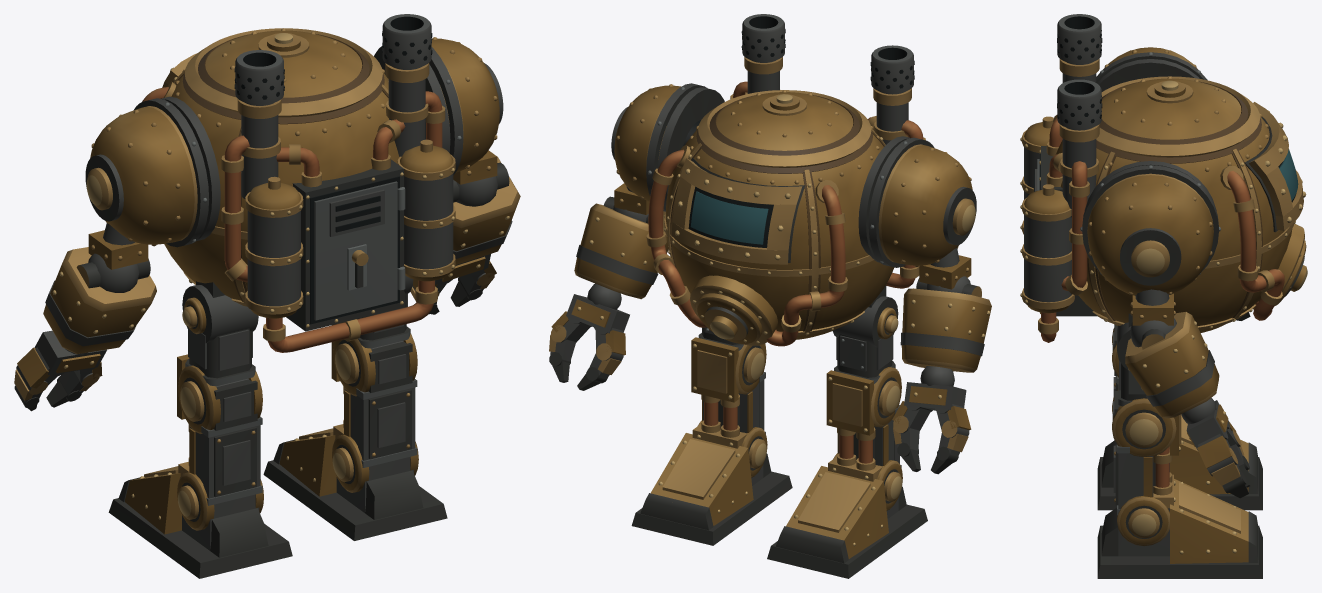
3 renders of one model, left to right at view 1: azimuth 30°, elevation 25°; view 2: azimuth 150°, elevation 25°; view 3: azimuth 270°, elevation 25°, orthographic. The views are drawn at different scales.
Size of the model in its own units: 4.06 by 4.28 by 2.38.
